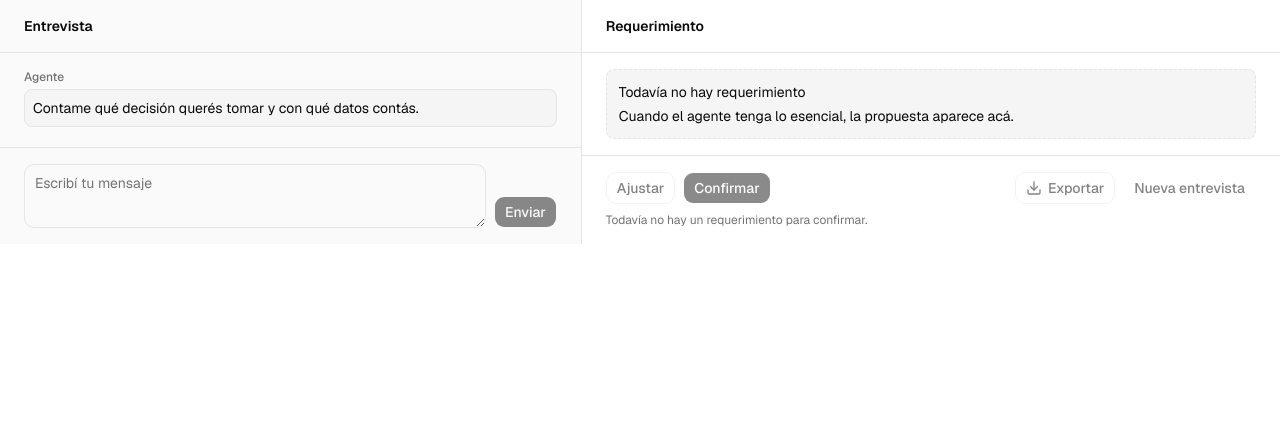
Test case: turno fallido › un error de red es reintentable
Check: the element named "Conversación" is shown, box [0,53,581,147]
Type "Hola" into the text box at (255, 196), box [24,164,486,228]
Then press Enter
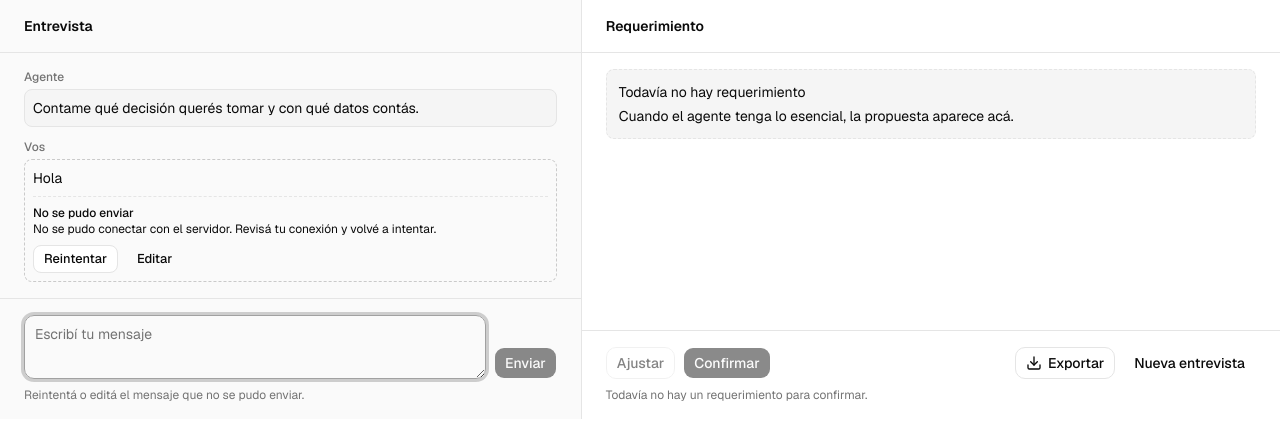
Check: the text "No se pudo conectar" is shown, box [33,221,436,237]
Check: the button "Reintentar" is enabled, box [33,245,118,273]
